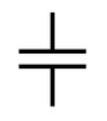Capacitor: (12, 36, 90, 81)
